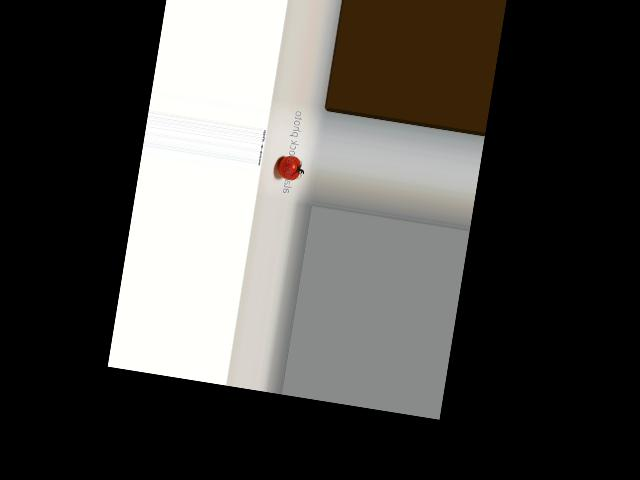tomato: (276, 153, 302, 181)
